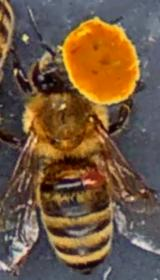varroa_mite: (80, 163, 104, 198)
